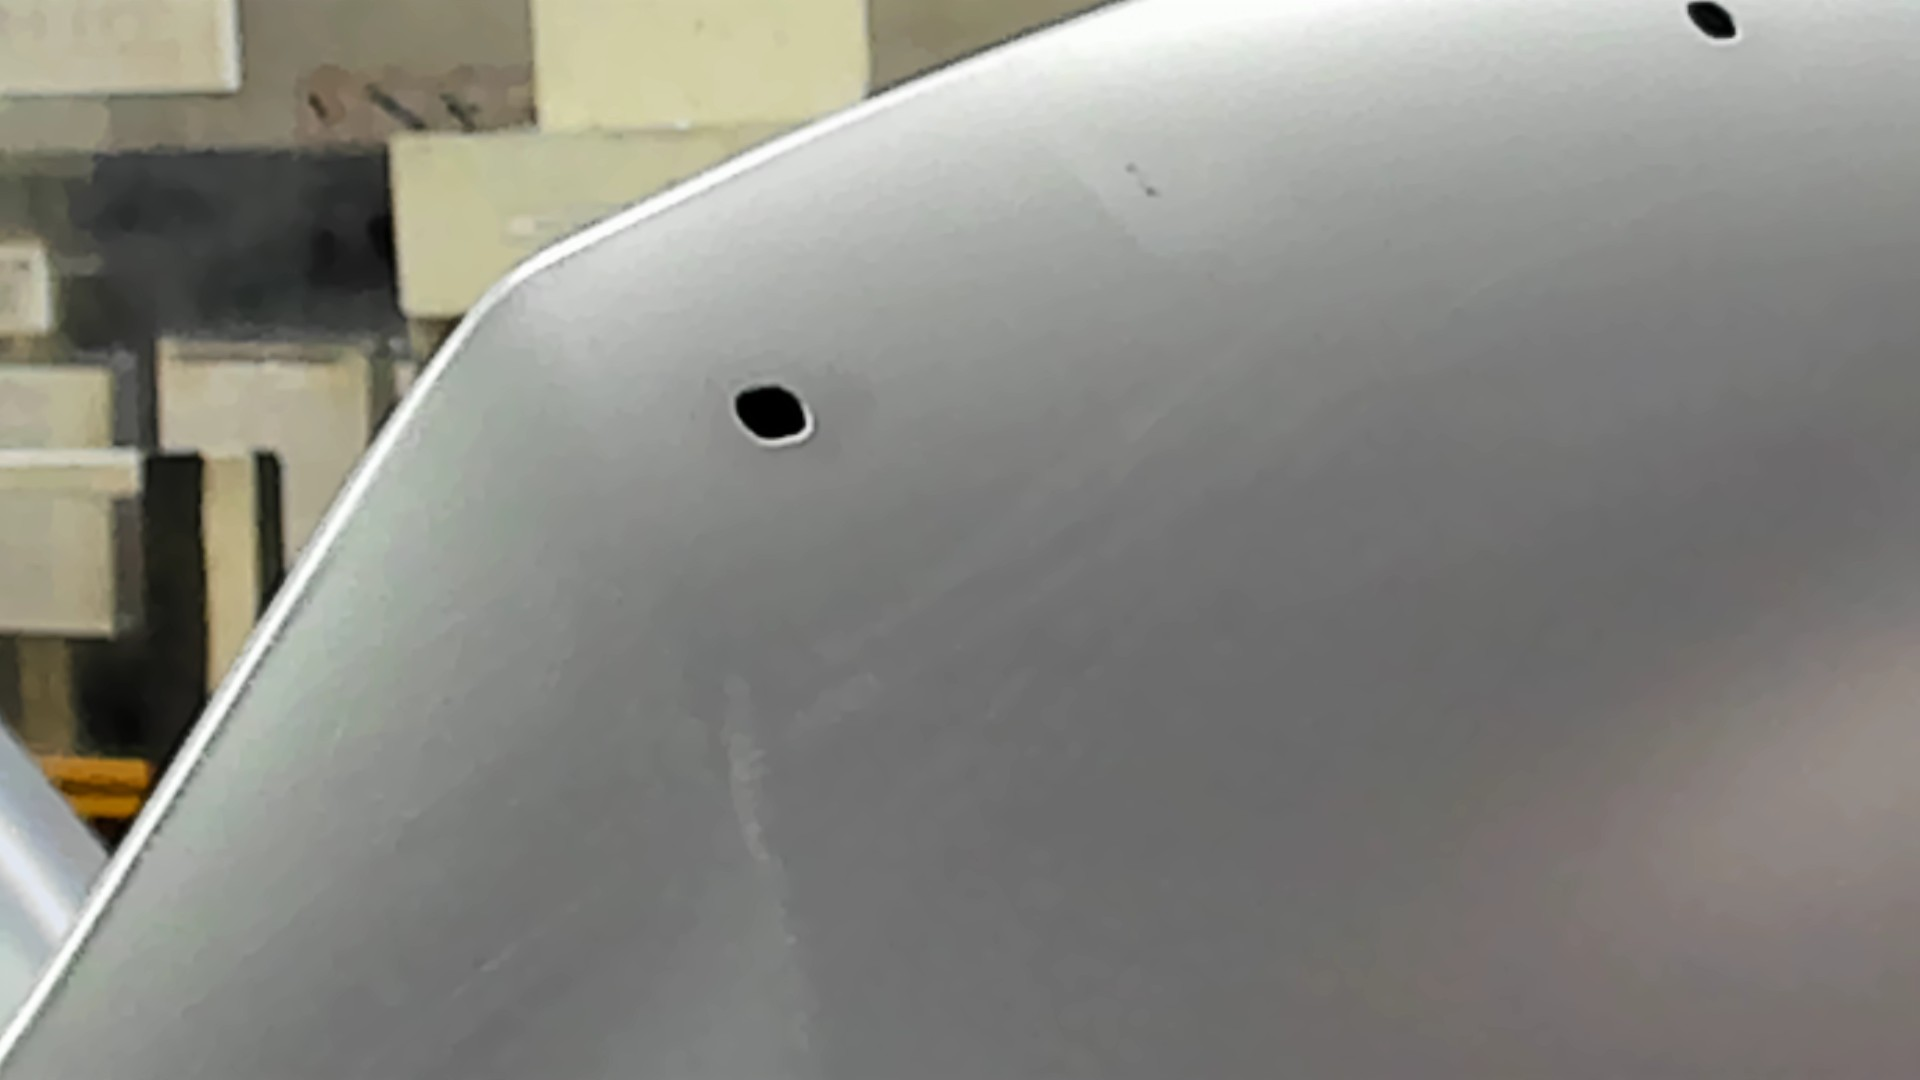amorfo: (723, 381, 816, 444), (1680, 1, 1746, 51)
